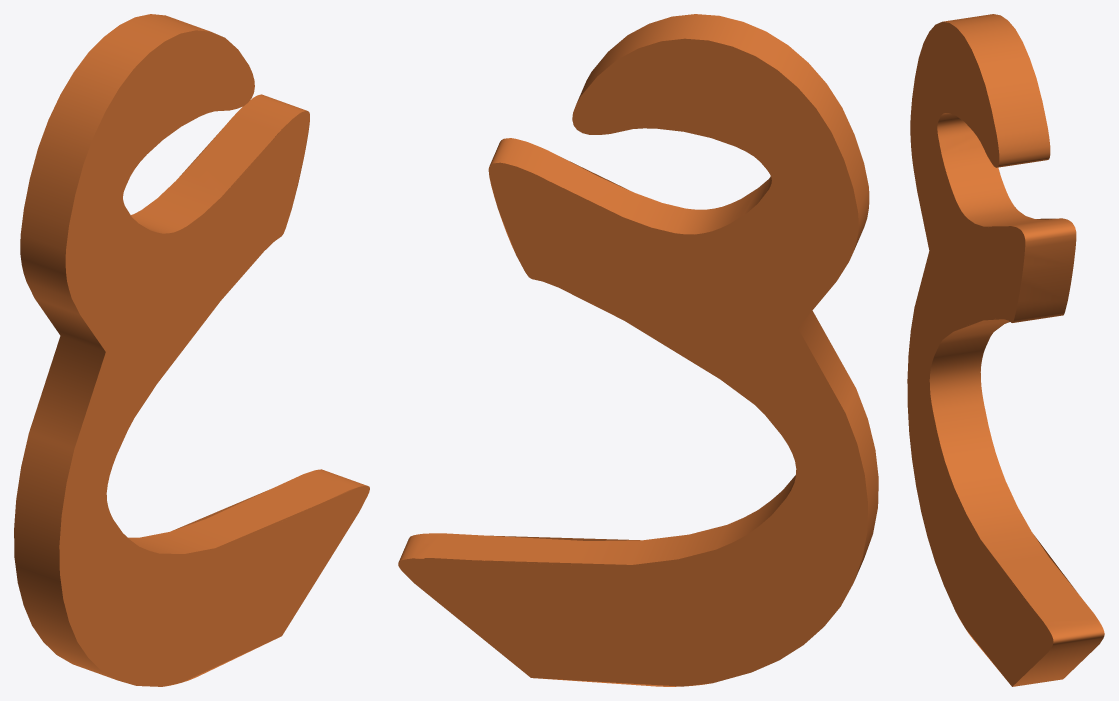
The model's file is ain4.fbx.
The picture shows the model from 3 angles, left to right: view 1: azimuth 30°, elevation 25°; view 2: azimuth 150°, elevation 25°; view 3: azimuth 270°, elevation 25°; orthographic projection. The views are drawn at different scales.
Parts seen in each view (by area): view 1: ain; view 2: ain; view 3: ain.
Part boxes in pixels (box(x1,y1,x2,y2)): ain: box(14, 14, 369, 686); ain: box(398, 14, 878, 686); ain: box(907, 14, 1104, 686).
Bounding box in the file's own units: 899 × 1375 × 414.
